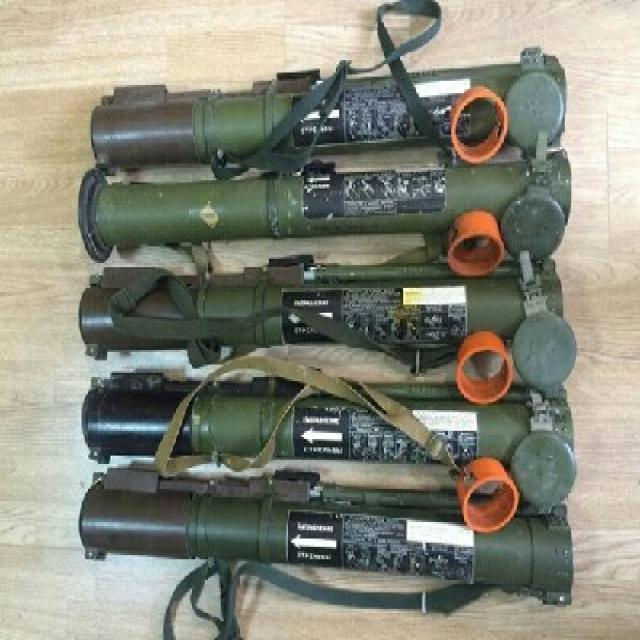bazooka: (69, 67, 590, 640)
